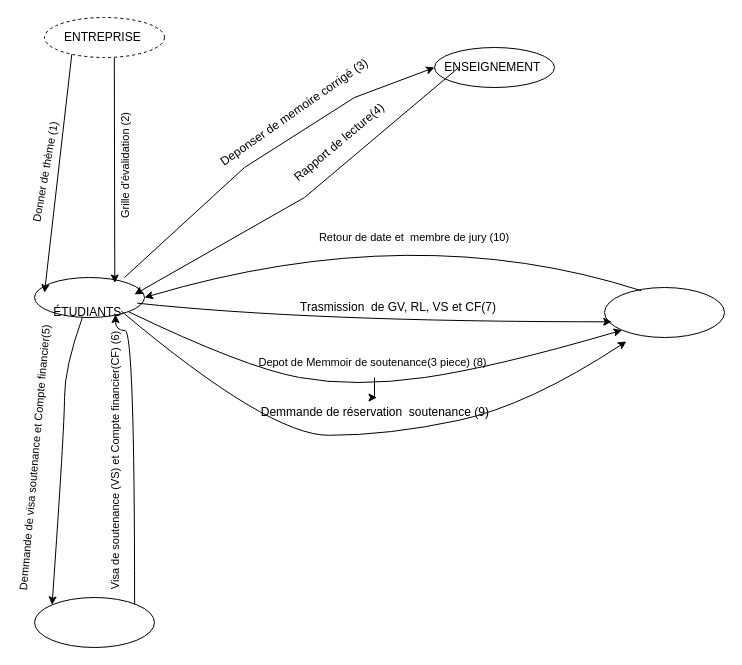
Image size: 742x665. Some labels were removed from this diagram. The shapes that lost their labels are listed below. From the top down, each one's centre as x and y in pixels, then its label:
At (664,312): "RESPONSABLE".
At (94,622): "SCOLARITÉ".
